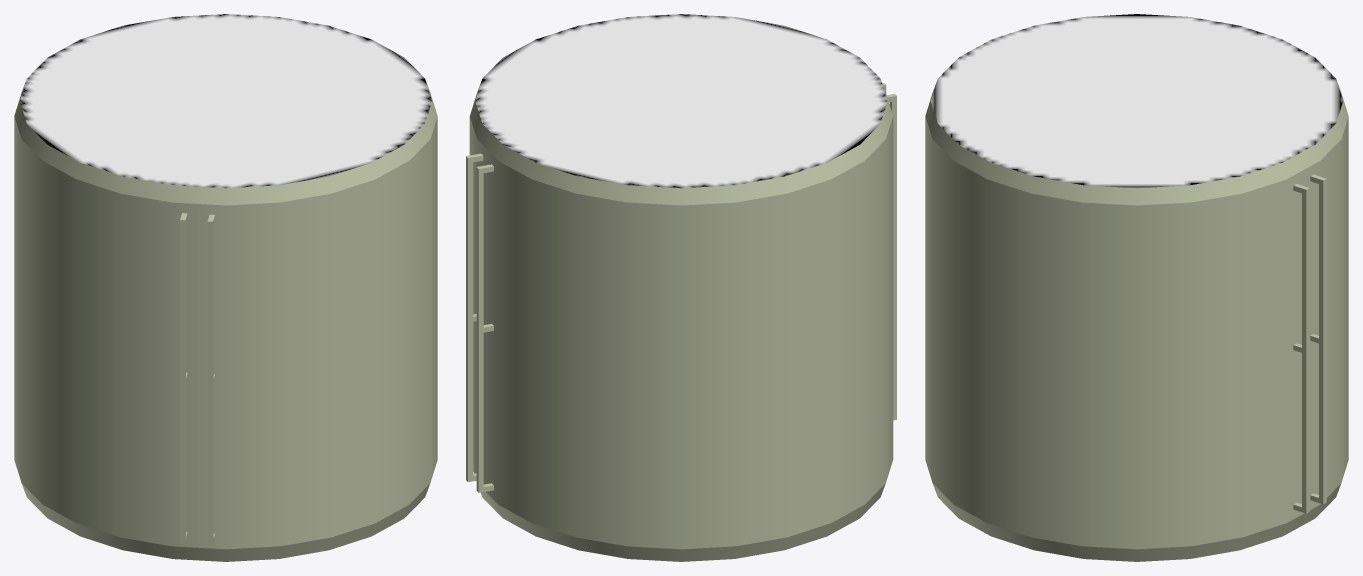
File: tucana_crew_s1p5_2_interior.obj
The picture shows the model from 3 angles, left to right: view 1: azimuth 30°, elevation 25°; view 2: azimuth 150°, elevation 25°; view 3: azimuth 270°, elevation 25°; orthographic projection.
Parts seen in each view (by area): view 1: tucana_crew_s1p5_2_mask, tucana_crew_s1p5_2_interior; view 2: tucana_crew_s1p5_2_mask, tucana_crew_s1p5_2_interior; view 3: tucana_crew_s1p5_2_mask, tucana_crew_s1p5_2_interior.
Part boxes in pixels (left/top/right/bottom): tucana_crew_s1p5_2_mask: left=14, top=82, right=437, bottom=561; tucana_crew_s1p5_2_interior: left=20, top=14, right=431, bottom=188; tucana_crew_s1p5_2_mask: left=466, top=81, right=896, bottom=561; tucana_crew_s1p5_2_interior: left=475, top=14, right=887, bottom=188; tucana_crew_s1p5_2_mask: left=925, top=82, right=1348, bottom=561; tucana_crew_s1p5_2_interior: left=931, top=14, right=1342, bottom=188.
Size of the model in its own units: 1.92 by 1.88 by 1.92.
Materials: 2 (1 with a texture image).
